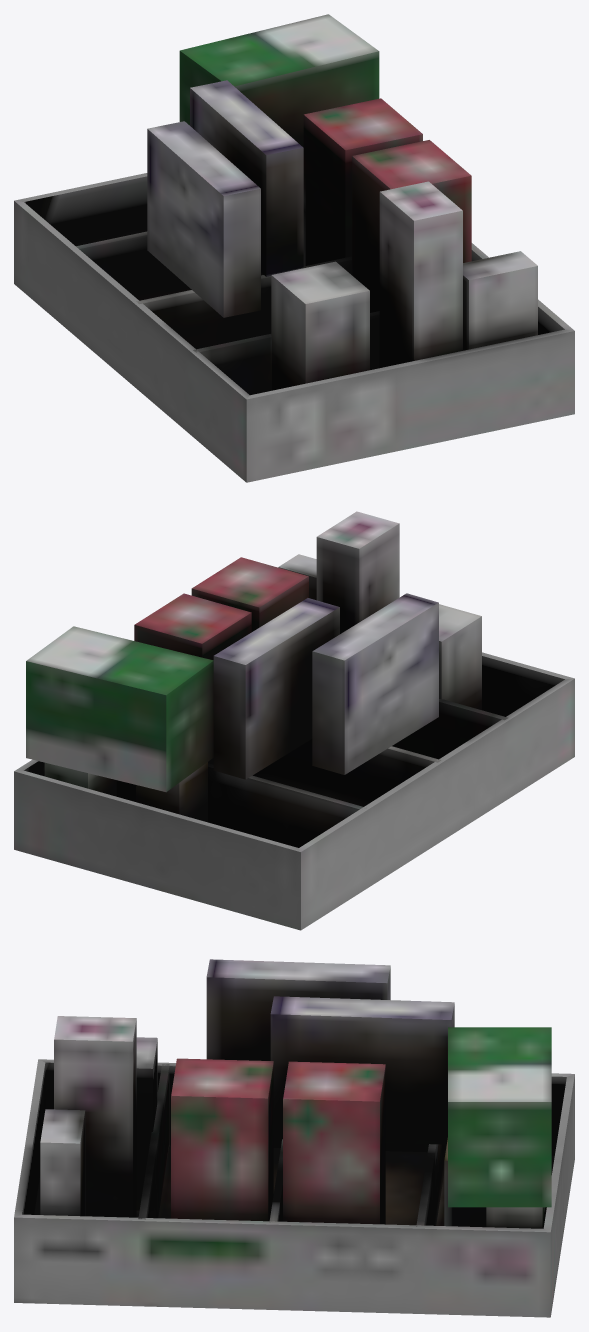
The model's file is MedBox_03.FBX.
3 renders of one model, top to bottom at view 1: azimuth 30°, elevation 25°; view 2: azimuth 150°, elevation 25°; view 3: azimuth 270°, elevation 25°, orthographic. The views are drawn at different scales.
Visible parts, largest first — view 1: MedBox_03; view 2: MedBox_03; view 3: MedBox_03.
Boxes of the visible parts, bbox=[...] form: MedBox_03: bbox=[14, 14, 574, 482]; MedBox_03: bbox=[14, 511, 574, 930]; MedBox_03: bbox=[14, 959, 574, 1317].
Bounding box in the file's own units: 34.91 × 20.42 × 47.84.
